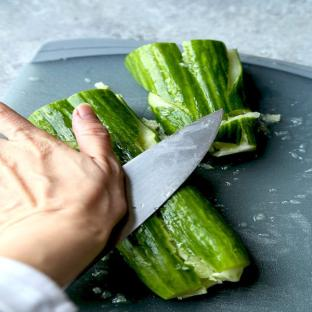Cucumber: (126, 40, 258, 155), (30, 90, 159, 163)
